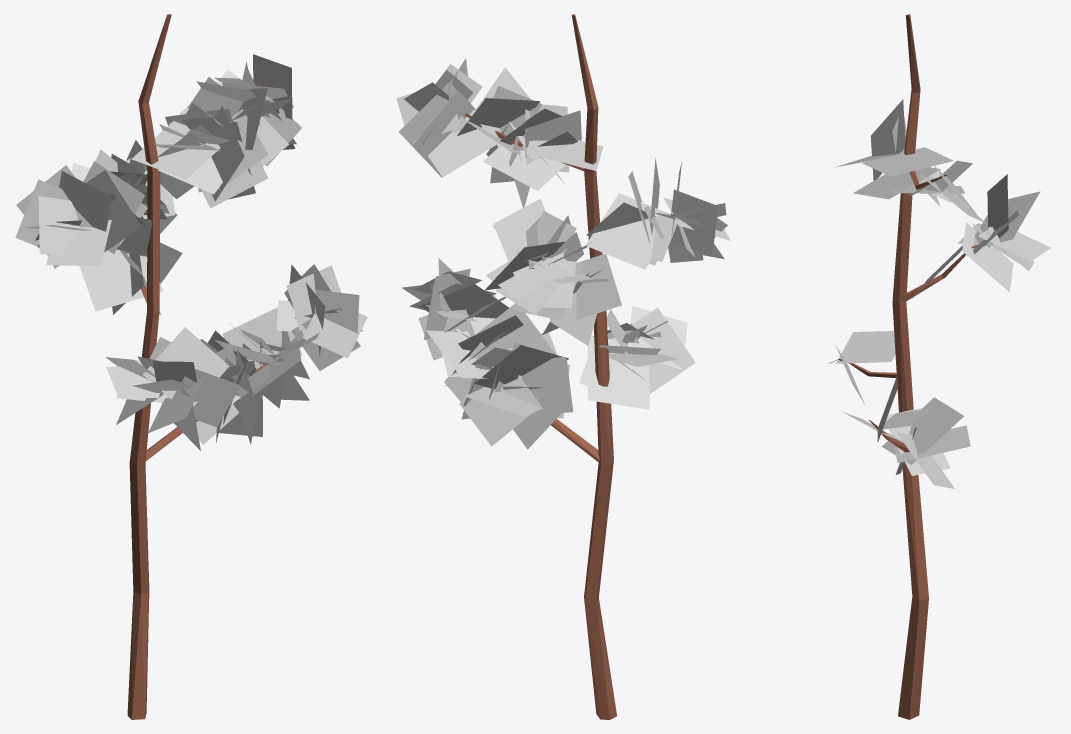
The model's file is bush-stick.glb.
The picture shows the model from 3 angles, left to right: view 1: azimuth 30°, elevation 25°; view 2: azimuth 150°, elevation 25°; view 3: azimuth 270°, elevation 25°; orthographic projection. The views are drawn at different scales.
Parts seen in each view (by area): view 1: leavesStick, woodStick; view 2: leavesStick, woodStick; view 3: leavesStick, woodStick.
Part boxes in pixels (<box>): leavesStick: <box>15,54,367,450</box>; woodStick: <box>127,14,265,719</box>; leavesStick: <box>396,58,730,449</box>; woodStick: <box>465,14,616,719</box>; leavesStick: <box>834,99,1050,488</box>; woodStick: <box>829,14,978,719</box>.
Bounding box in the file's own units: 2.05 × 4.1 × 1.49.
